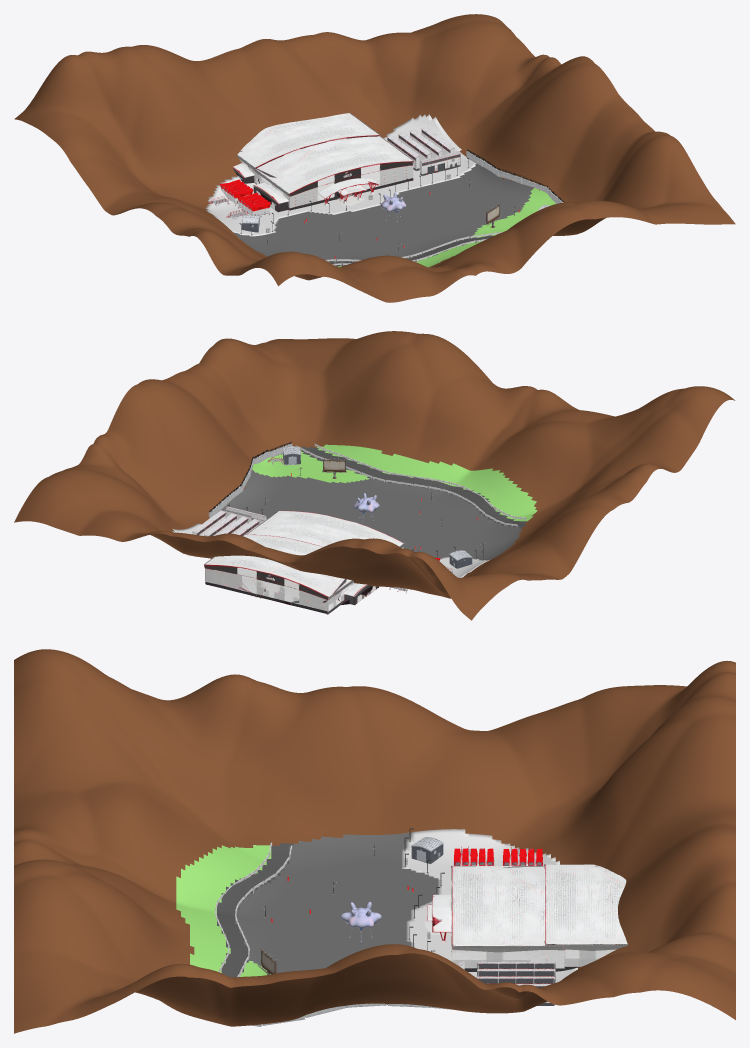
The model's file is Nevada.pre-interactive-20261012.glb.
The picture shows the model from 3 angles, top to bottom: view 1: azimuth 30°, elevation 25°; view 2: azimuth 150°, elevation 25°; view 3: azimuth 270°, elevation 25°; orthographic projection. The views are drawn at different scales.
Visible parts, largest first — view 1: mountain, garage, Citadel_Main_Entrance, building_floor, Citadel_Main_Entrance.001, land, Citadel_Wall_Service_Bay, TSC_Cooling_Module, TSC_Cooling_Module.001; view 2: mountain, garage, Citadel_Main_Entrance.001, land, Citadel_Main_Entrance, road, building_floor, Guardrail_Straight.019, Guardrail_Straight.001; view 3: mountain, garage, Citadel_Main_Entrance, Citadel_Main_Entrance.001, land, building_floor, road, ECHO_Mesh, Utility_Enclosure_A, TSC_Cooling_Module, TSC_Cooling_Module.001, Citadel_Wall_Straight (+1 smaller).
Boxes of the visible parts, x1,y1,x2,y2 form: mountain: [14, 14, 735, 302]; garage: [233, 164, 532, 262]; Citadel_Main_Entrance: [247, 136, 413, 212]; building_floor: [205, 114, 476, 236]; Citadel_Main_Entrance.001: [232, 113, 379, 183]; land: [338, 188, 556, 267]; Citadel_Wall_Service_Bay: [420, 151, 460, 176]; TSC_Cooling_Module: [237, 192, 270, 217]; TSC_Cooling_Module.001: [219, 179, 253, 205]; mountain: [14, 331, 735, 620]; garage: [221, 470, 522, 560]; Citadel_Main_Entrance.001: [204, 534, 378, 614]; land: [252, 444, 537, 521]; Citadel_Main_Entrance: [247, 510, 404, 548]; road: [300, 446, 526, 528]; building_floor: [172, 510, 490, 577]; Guardrail_Straight.019: [296, 445, 517, 526]; Guardrail_Straight.001: [314, 443, 526, 520]; mountain: [14, 649, 735, 1033]; garage: [235, 832, 438, 1007]; Citadel_Main_Entrance: [423, 866, 565, 971]; Citadel_Main_Entrance.001: [544, 864, 627, 970]; land: [176, 845, 315, 1015]; building_floor: [402, 829, 577, 982]; road: [217, 843, 293, 977]; ECHO_Mesh: [340, 902, 381, 941]; Utility_Enclosure_A: [411, 837, 443, 864]; TSC_Cooling_Module: [453, 848, 494, 865]; TSC_Cooling_Module.001: [502, 848, 543, 865]; Citadel_Wall_Straight: [477, 961, 555, 980].
Size of the model in its own units: 100 by 23.04 by 100.
Materials: 18 (11 with a texture image).
